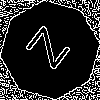Z: (25, 25, 80, 77)
